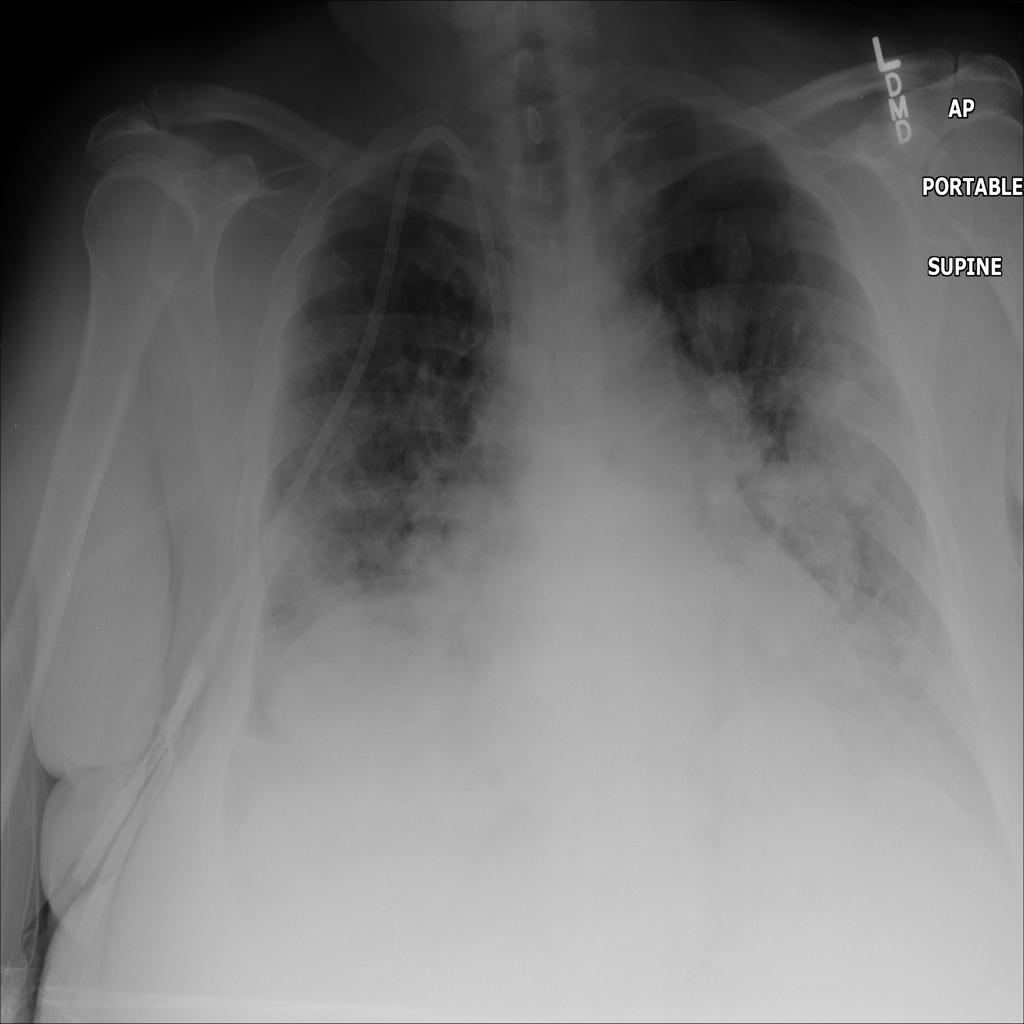nodule: (729, 471, 872, 634), (672, 275, 767, 392), (788, 327, 886, 429), (698, 200, 775, 287), (692, 363, 760, 432)
